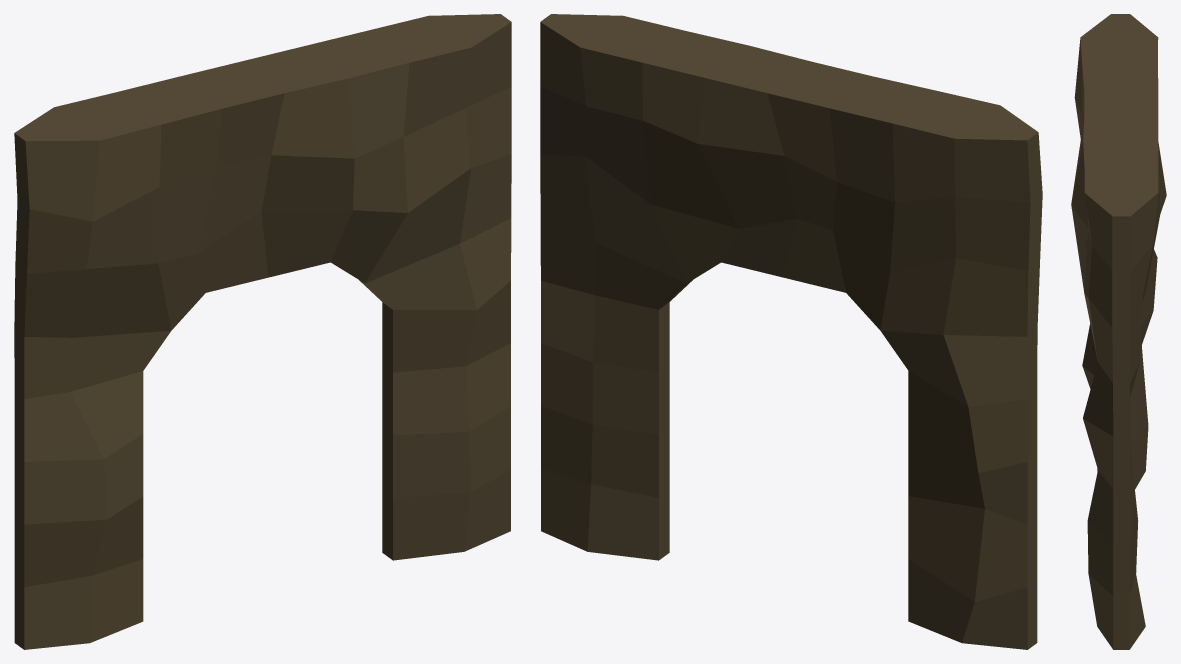
Rendered from BigOpening.L.fbx.
3 renders of one model, left to right at view 1: azimuth 30°, elevation 25°; view 2: azimuth 150°, elevation 25°; view 3: azimuth 270°, elevation 25°, orthographic. The views are drawn at different scales.
Parts seen in each view (by area): view 1: Big_Wall Opening.L; view 2: Big_Wall Opening.L; view 3: Big_Wall Opening.L.
Boxes of the visible parts, bbox=[...] form: Big_Wall Opening.L: bbox=[14, 14, 511, 649]; Big_Wall Opening.L: bbox=[540, 14, 1042, 649]; Big_Wall Opening.L: bbox=[1071, 14, 1166, 649].
Size of the model in its own units: 1299 by 1300 by 260.
